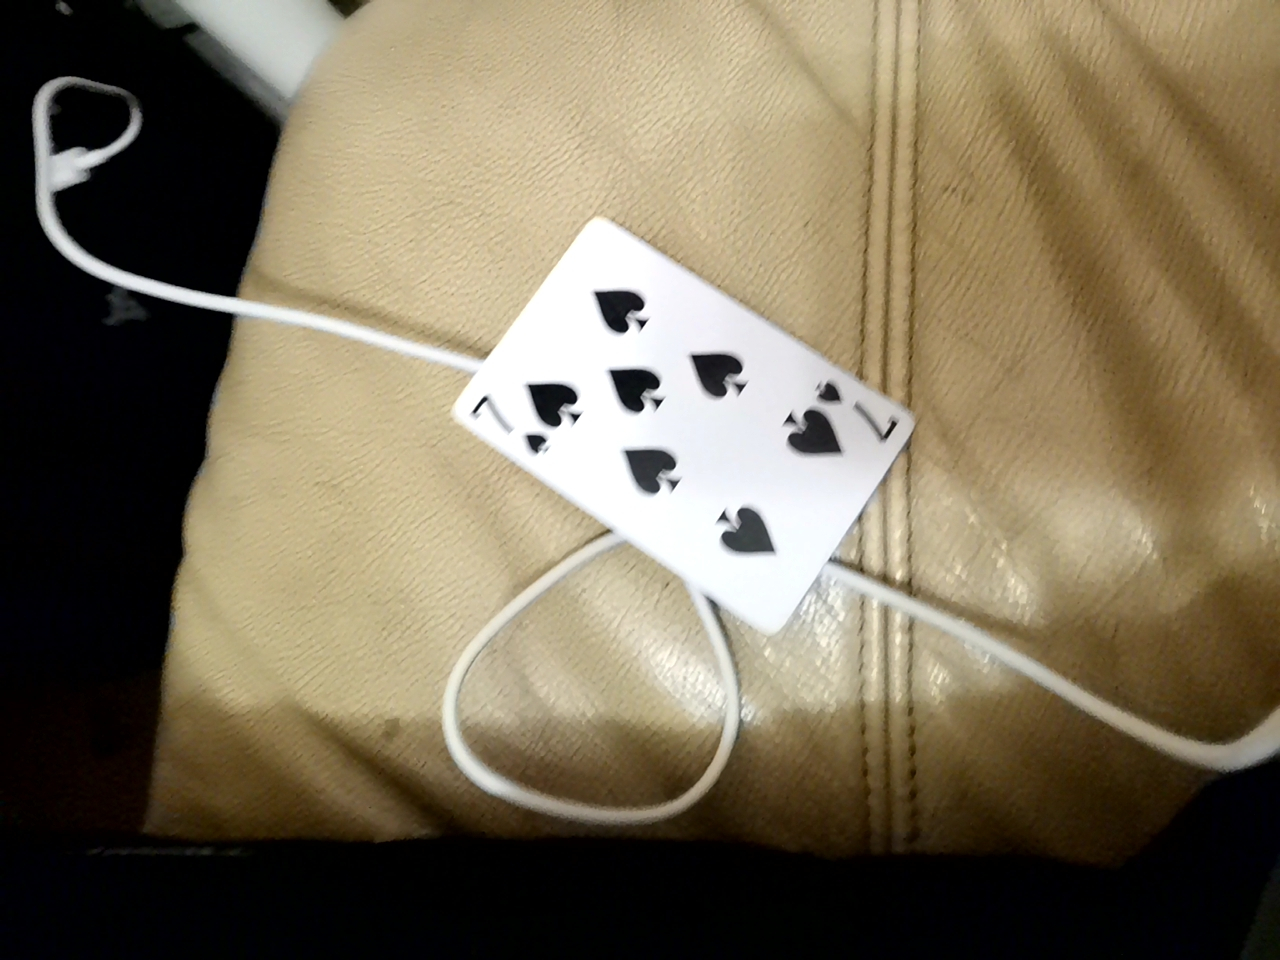ht 7: (461, 157, 888, 564)
